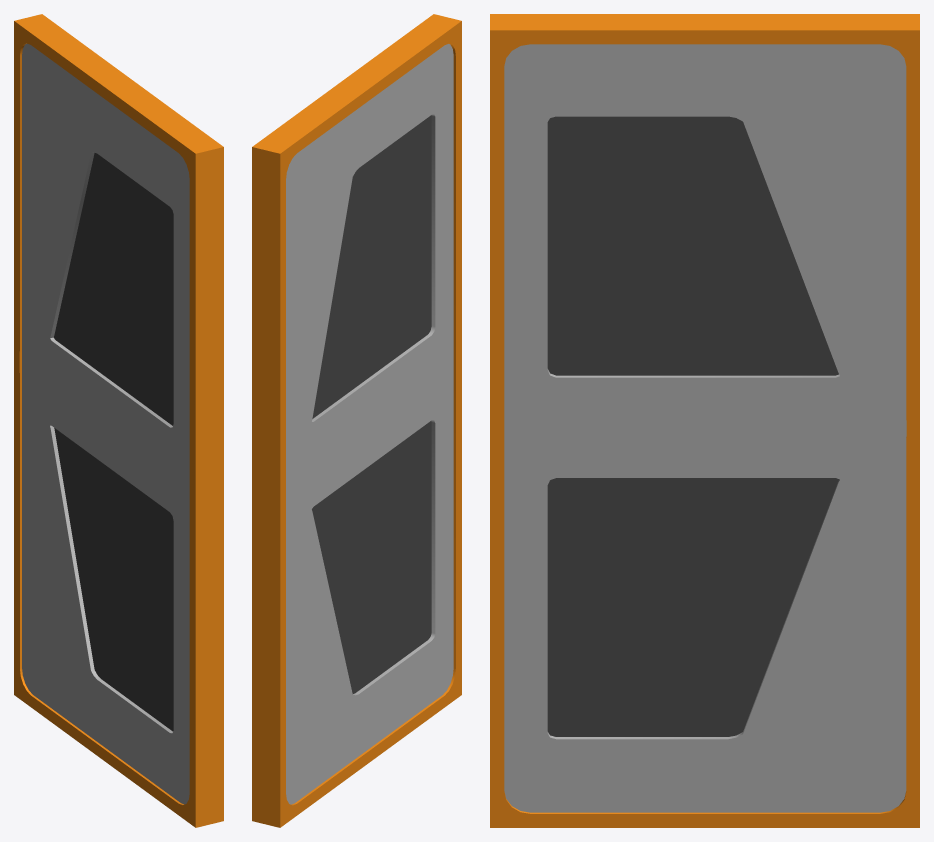
File: FrameDoor02_Door.fbx
3 views of the same model, side by side, from view 1: azimuth 30°, elevation 25°; view 2: azimuth 150°, elevation 25°; view 3: azimuth 270°, elevation 25° (orthographic). The views are drawn at different scales.
Visible parts, largest first — view 1: SM_FrameDoor02_Door; view 2: SM_FrameDoor02_Door; view 3: SM_FrameDoor02_Door.
Part boxes in pixels (x1,y1,x2,y2): SM_FrameDoor02_Door: [14, 14, 223, 827]; SM_FrameDoor02_Door: [252, 14, 461, 827]; SM_FrameDoor02_Door: [490, 14, 919, 827].
Bounding box in the file's own units: 10 × 229 × 112.
